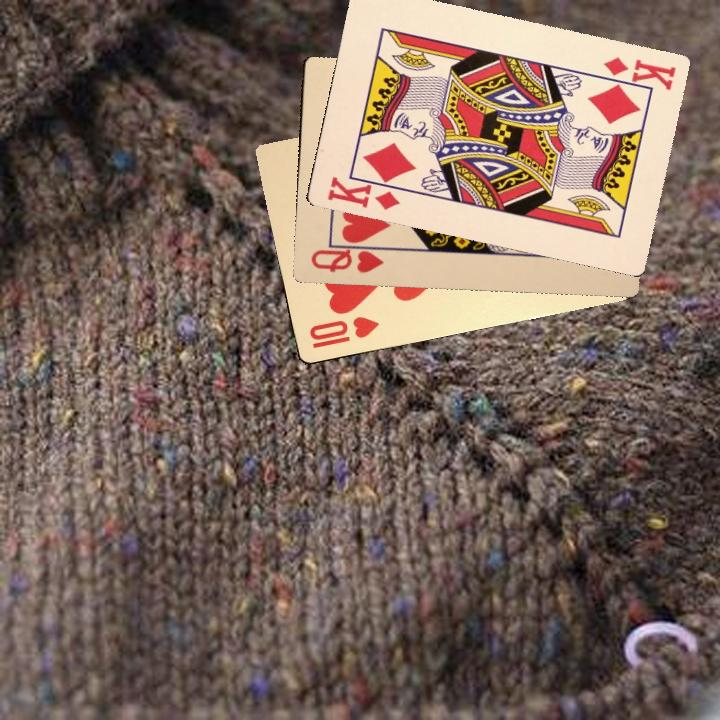10h: (305, 312, 382, 351)
Kd: (323, 168, 403, 213), (590, 53, 678, 93)
Qh: (307, 239, 387, 275)
